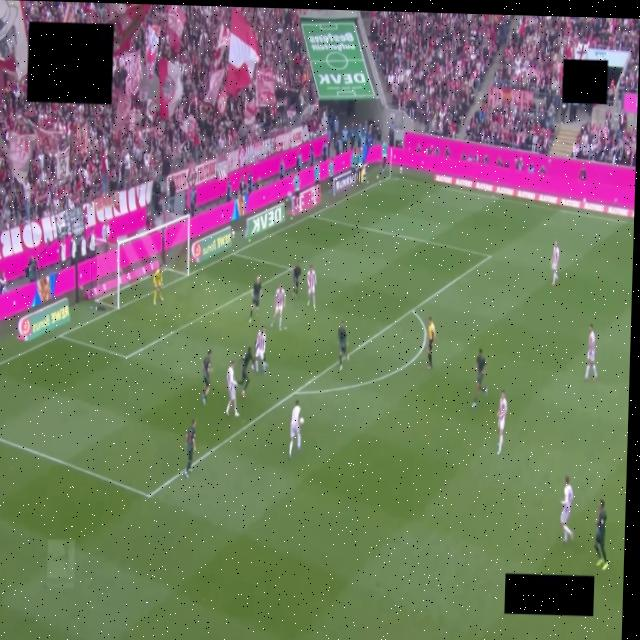ball: (299, 417, 303, 424)
player: (471, 349, 487, 407), (594, 499, 607, 569), (560, 476, 573, 543), (584, 324, 596, 381), (239, 347, 252, 398), (252, 327, 266, 374), (226, 361, 238, 415), (271, 284, 285, 330), (184, 419, 195, 477), (289, 400, 300, 457), (497, 390, 506, 454), (201, 349, 211, 404), (249, 277, 261, 322), (337, 321, 348, 369), (153, 264, 163, 305), (307, 265, 315, 309), (551, 242, 558, 285), (292, 262, 300, 298)
referee: (426, 317, 435, 369)
